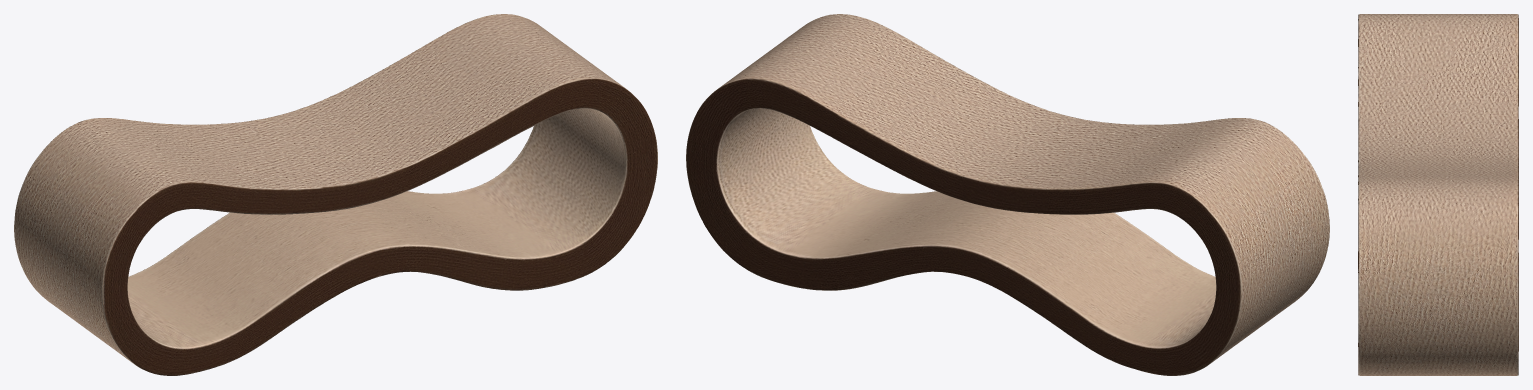
File: cat-scratcher-wave.glb
3 views of the same model, side by side, from view 1: azimuth 30°, elevation 25°; view 2: azimuth 150°, elevation 25°; view 3: azimuth 270°, elevation 25° (orthographic). The views are drawn at different scales.
Bounding box in the file's own units: 1.9 × 0.6557 × 0.5272.
1 material, 1 textured.
